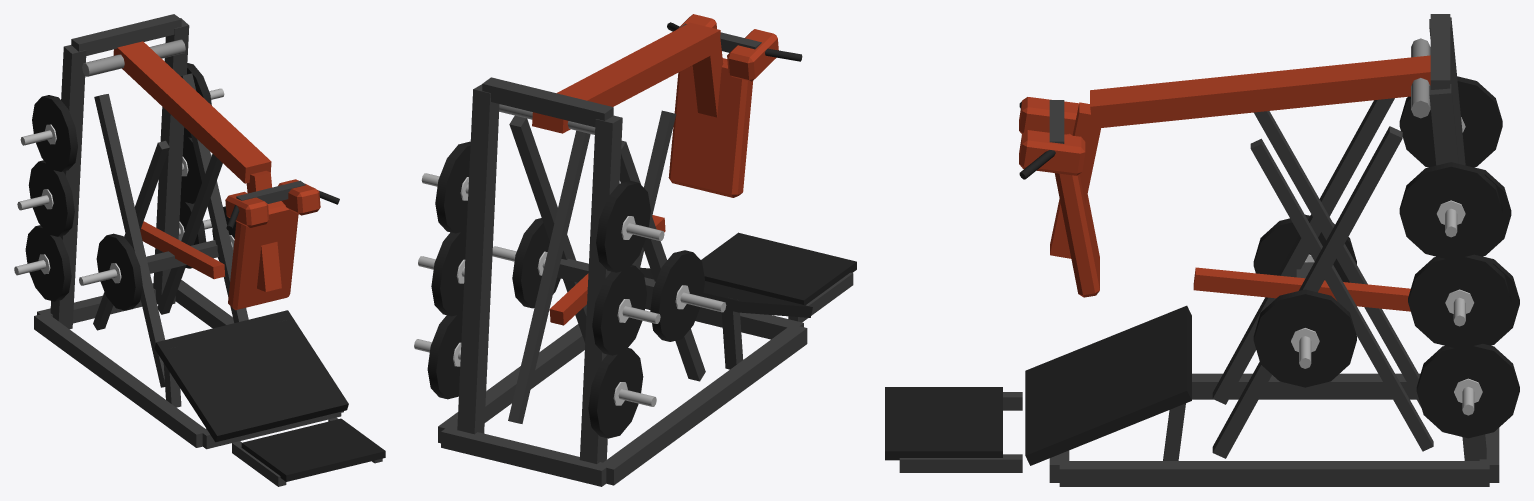
Rendered from Pendulum_Squat.fbx.
The picture shows the model from 3 angles, left to right: view 1: azimuth 30°, elevation 25°; view 2: azimuth 150°, elevation 25°; view 3: azimuth 270°, elevation 25°; orthographic projection. The views are drawn at different scales.
Parts seen in each view (by area): view 1: Pendulum_Squat; view 2: Pendulum_Squat; view 3: Pendulum_Squat.
Boxes of the visible parts, x1=… form: Pendulum_Squat: x1=14, y1=14, x2=385, y2=486; Pendulum_Squat: x1=414, y1=14, x2=856, y2=486; Pendulum_Squat: x1=885, y1=14, x2=1519, y2=486.
Bounding box in the file's own units: 124 × 176 × 258.
